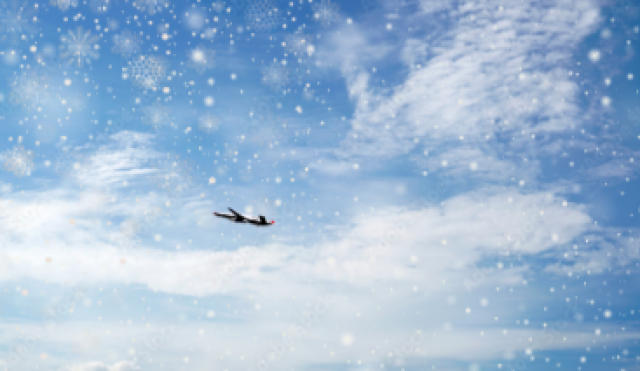military drone: (212, 206, 275, 228)
